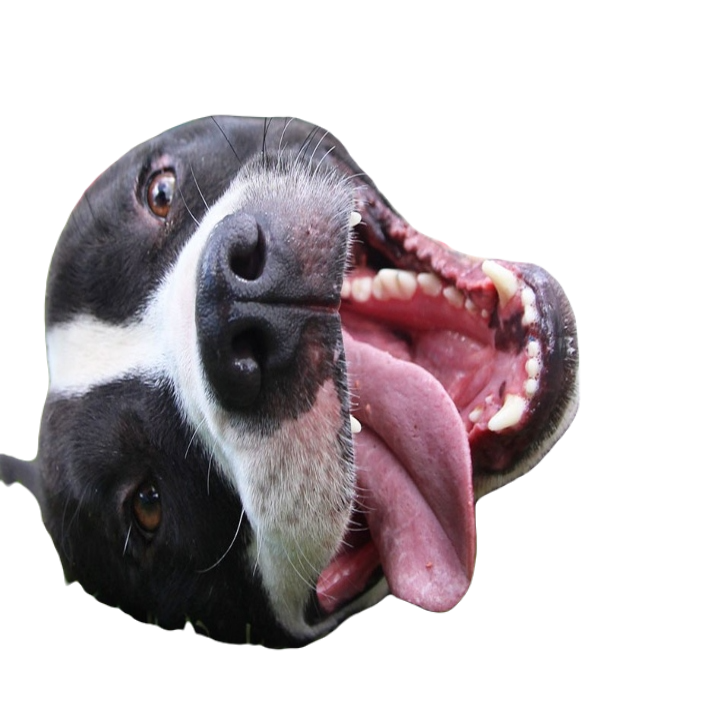Dog: (0, 111, 582, 647)
